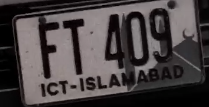FT409: (3, 1, 206, 101)
